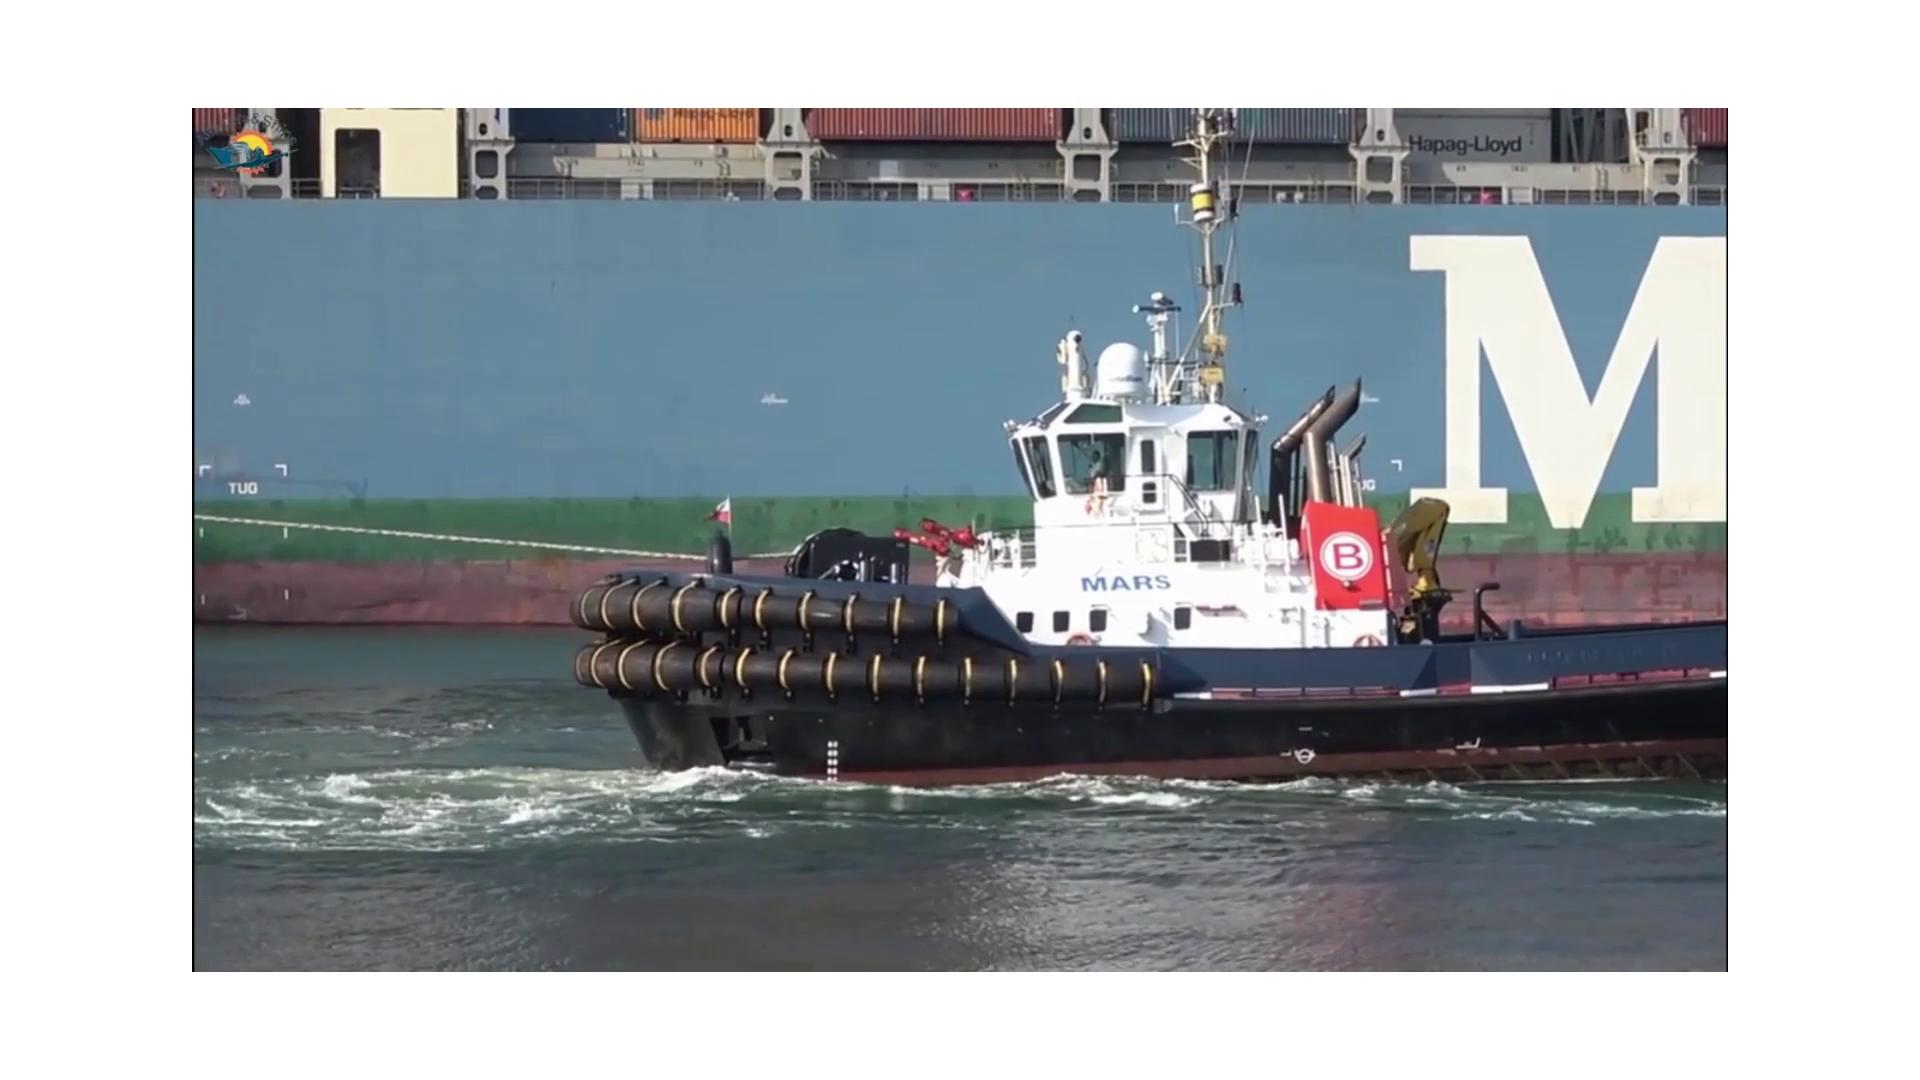OCR: (1067, 564, 1193, 607)
